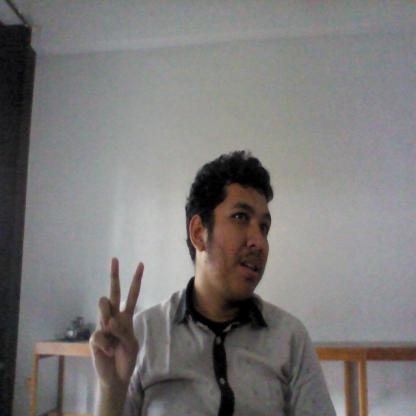V: (90, 256, 150, 395)
